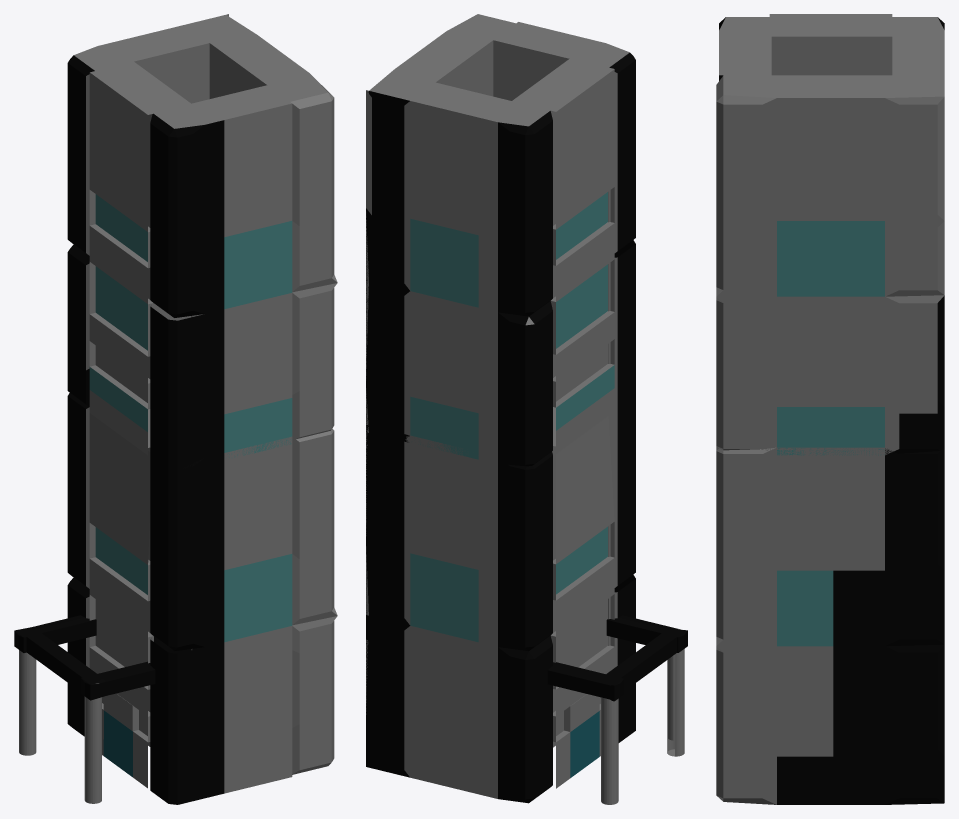
Rendered from biurowiec v1.fbx.
The picture shows the model from 3 angles, left to right: view 1: azimuth 30°, elevation 25°; view 2: azimuth 150°, elevation 25°; view 3: azimuth 270°, elevation 25°; orthographic projection. The views are drawn at different scales.
Parts seen in each view (by area): view 1: Cube, Cube.001; view 2: Cube, Cube.001; view 3: Cube.
Part boxes in pixels (x1=…): Cube: x1=19, y1=14, x2=337, y2=804; Cube.001: x1=14, y1=615, x2=155, y2=700; Cube: x1=366, y1=14, x2=684, y2=804; Cube.001: x1=547, y1=615, x2=687, y2=701; Cube: x1=716, y1=14, x2=944, y2=804.
Bounding box in the file's own units: 3089 × 8573 × 2510.
